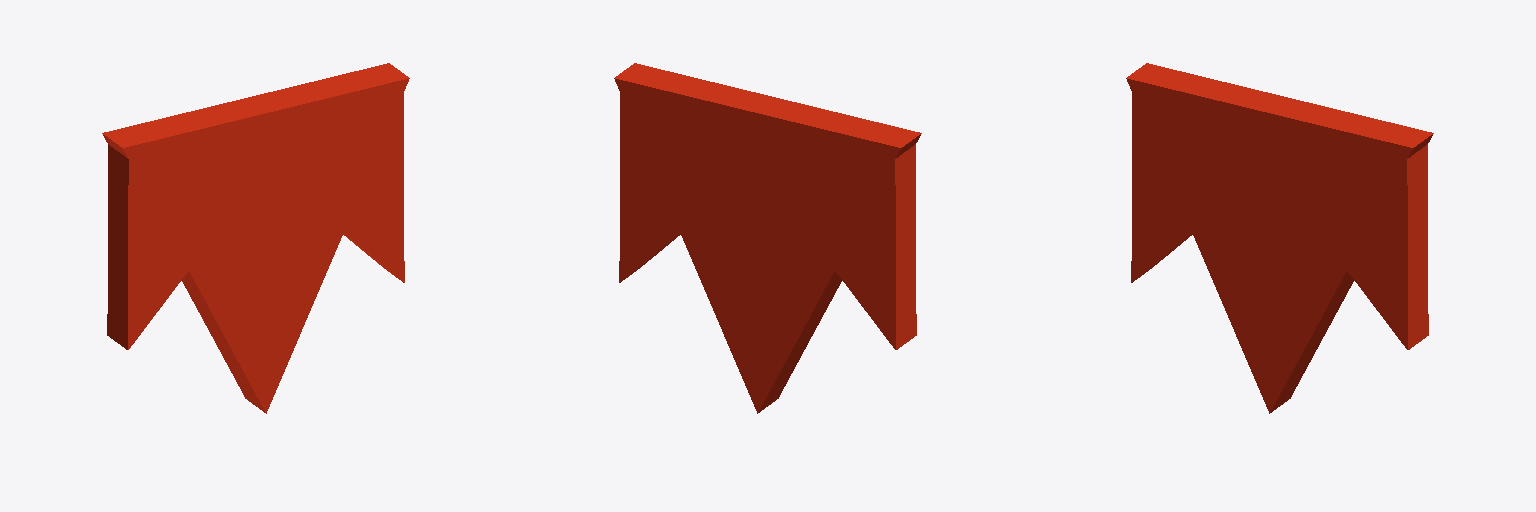
The model's file is Paper Plane.obj.
The picture shows the model from 3 angles: view 1: azimuth 30°, elevation 25°; view 2: azimuth 150°, elevation 25°; view 3: azimuth 330°, elevation 25°; orthographic projection.
Parts seen in each view (by area): view 1: Paper Plane; view 2: Paper Plane; view 3: Paper Plane.
Part boxes in pixels (left/top/right/bottom): Paper Plane: left=102, top=63, right=409, bottom=413; Paper Plane: left=614, top=63, right=921, bottom=413; Paper Plane: left=1126, top=63, right=1433, bottom=413.
Bounding box in the file's own units: 2 × 2 × 0.25.